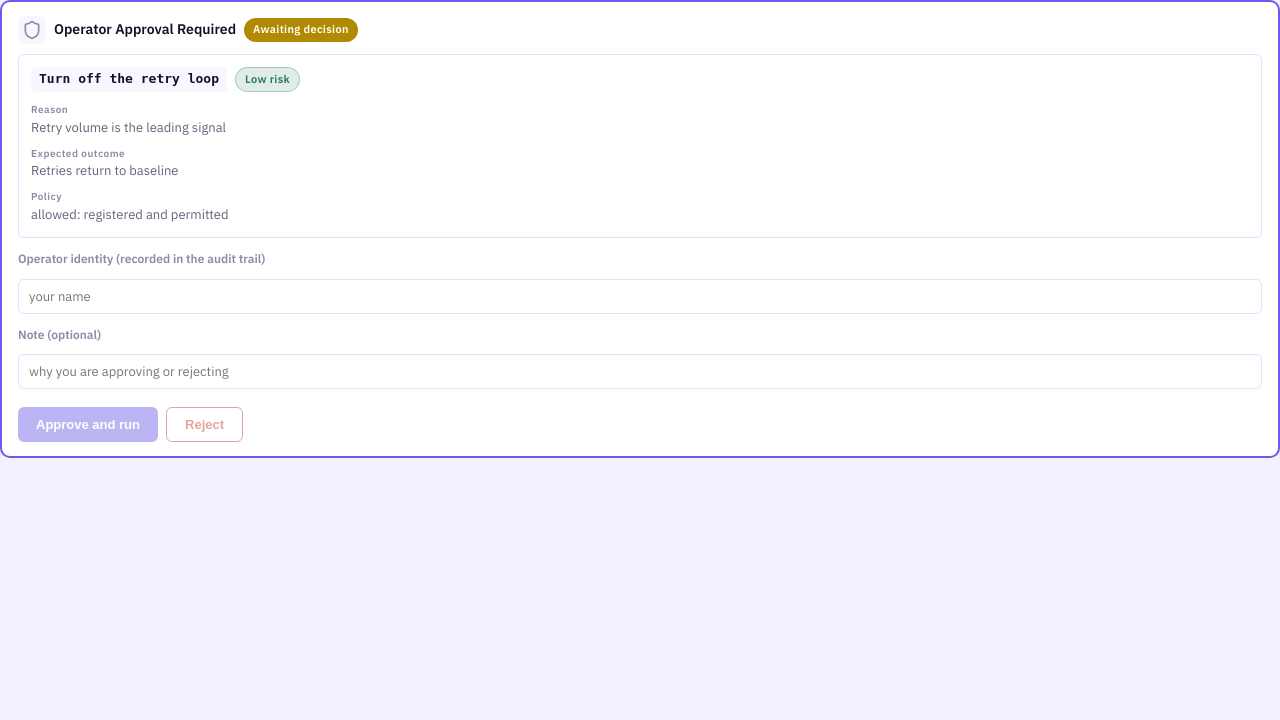
ApprovalPanel › lets the operator back out of a confirmation
The image size is (1280, 720).
Type "alice" into the field labelled "Operator identity (recorded in the audit trail)". click: (640, 296)
box: 18,279 -> 1262,314
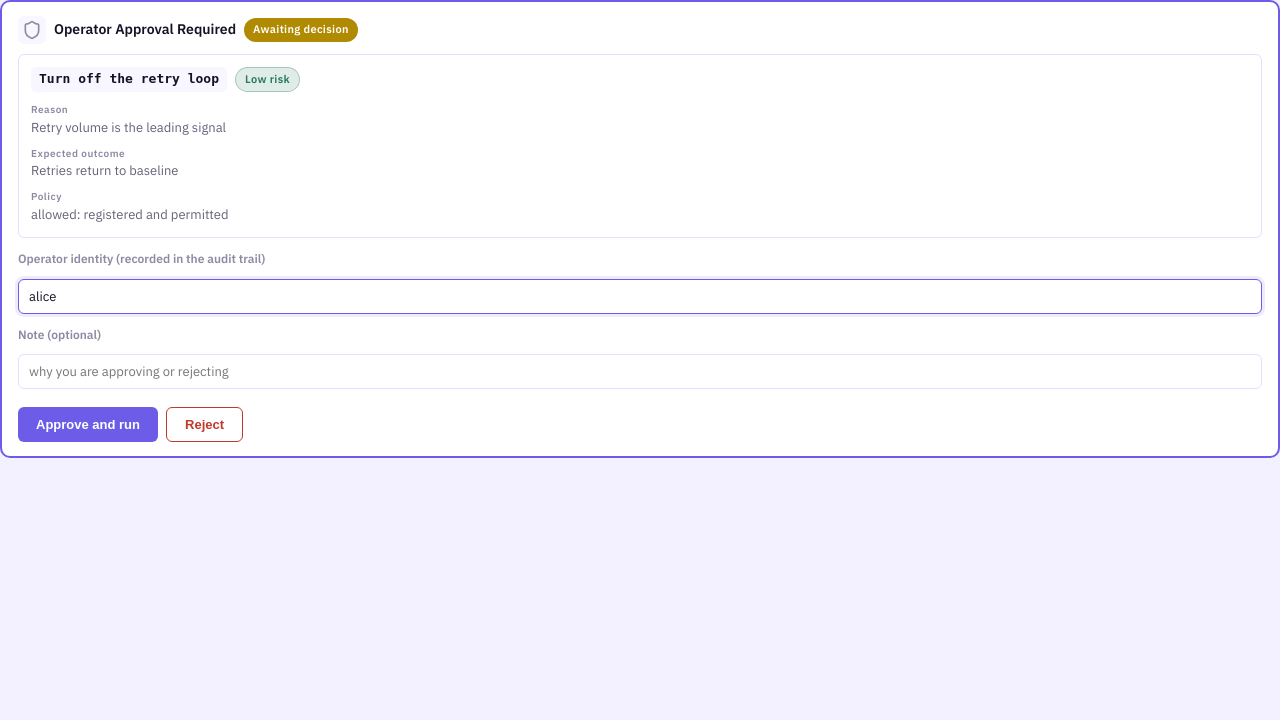
Click the button "Approve and run". click: click(88, 425)
box: 18,407 -> 158,442
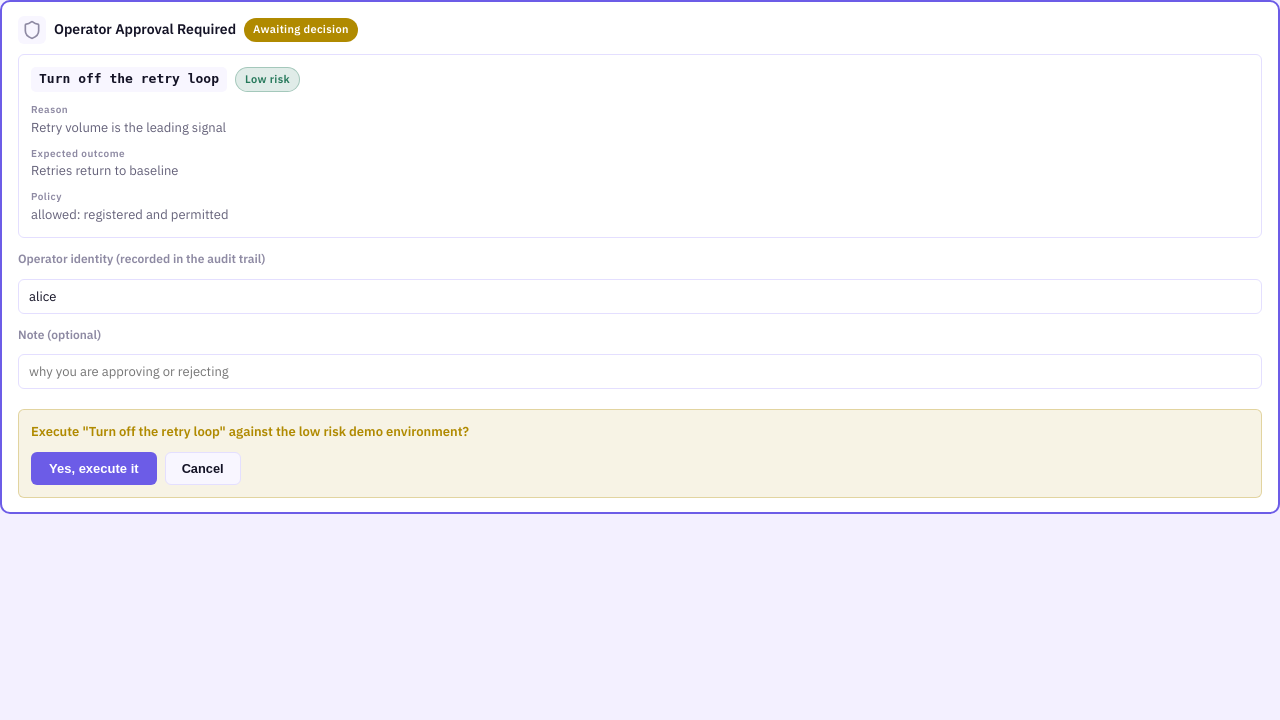
Click the button "Cancel". click: click(203, 469)
box: 165,452 -> 241,485
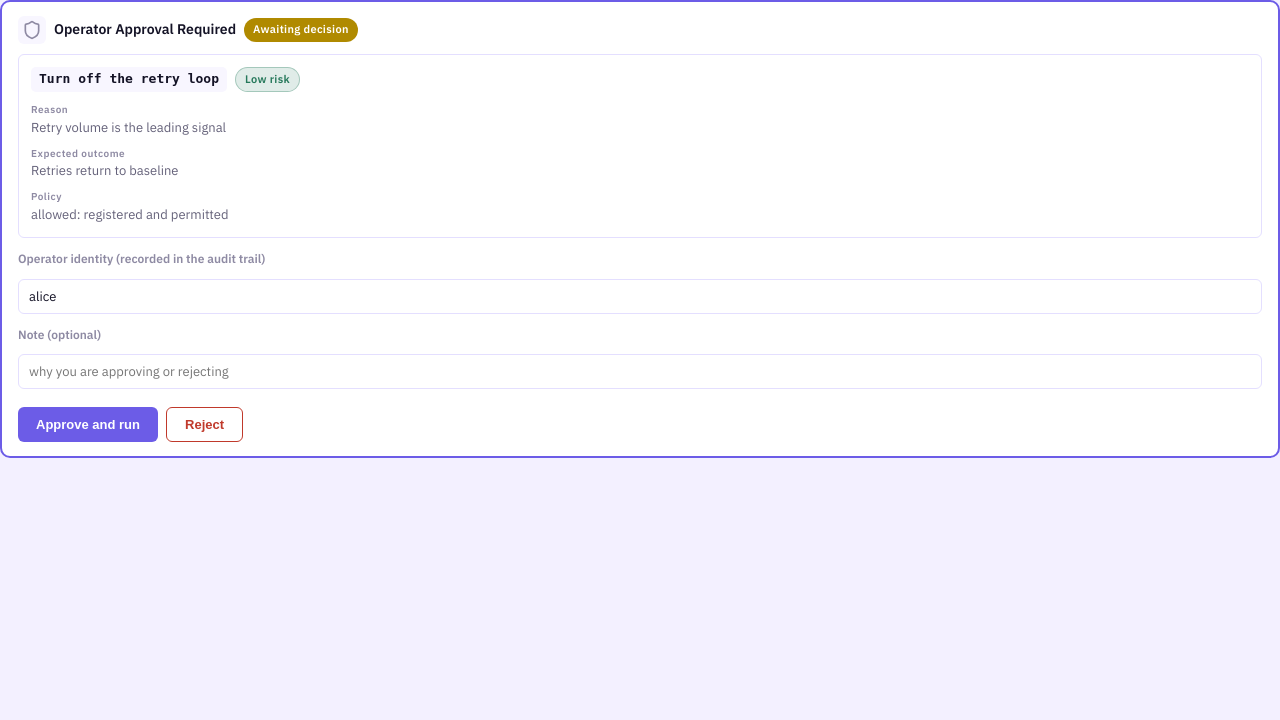
Expected: the button "Approve and run" is shown, 18,407 -> 158,442
